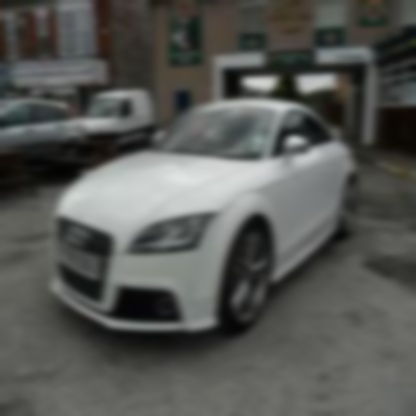Vehicle: (50, 94, 363, 337)
